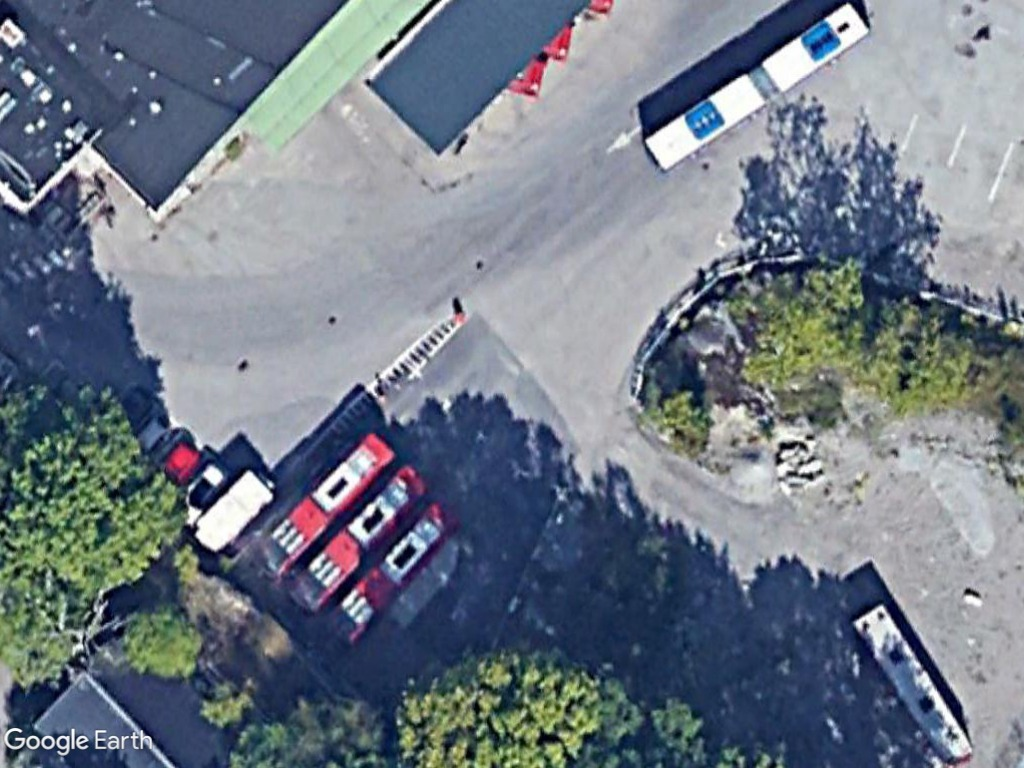bus: (639, 0, 874, 173), (245, 418, 394, 593), (282, 462, 435, 620), (316, 488, 458, 649), (841, 601, 973, 768)
